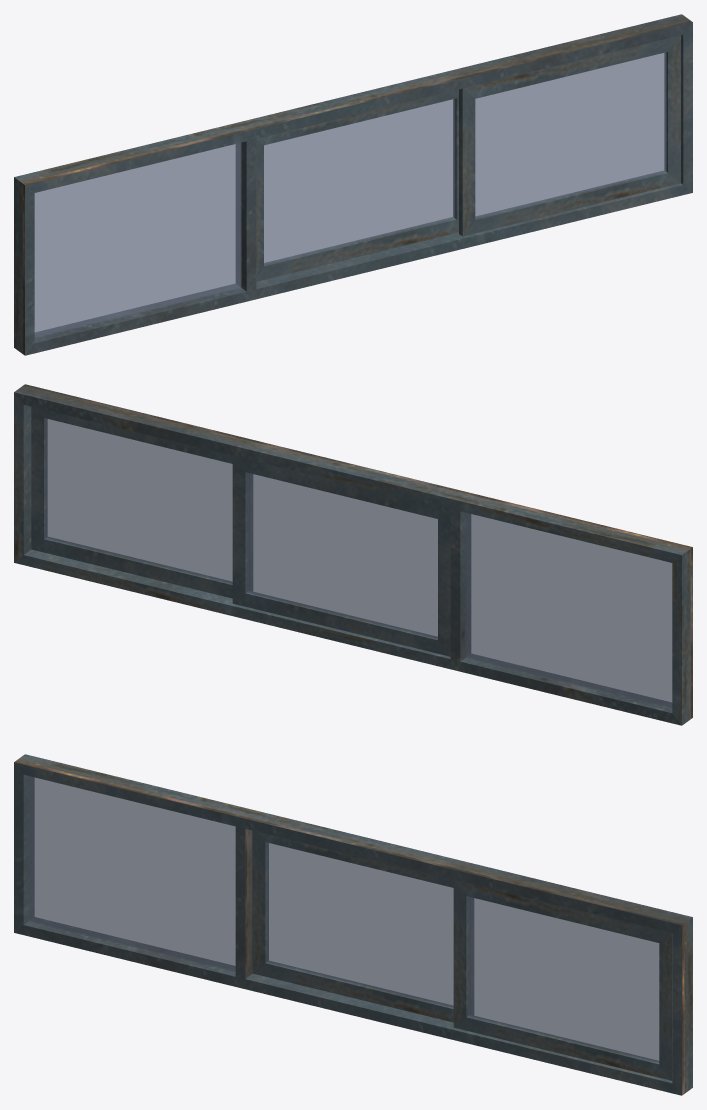
The model's file is Window.fbx.
The picture shows the model from 3 angles, top to bottom: view 1: azimuth 30°, elevation 25°; view 2: azimuth 150°, elevation 25°; view 3: azimuth 330°, elevation 25°; orthographic projection.
Visible parts, largest first — view 1: Window; view 2: Window; view 3: Window.
Part boxes in pixels (left/top/right/bottom): Window: left=14, top=14, right=692, bottom=355; Window: left=14, top=384, right=692, bottom=725; Window: left=14, top=754, right=692, bottom=1095.
Size of the model in its own units: 248 by 60.5 by 7.11.
